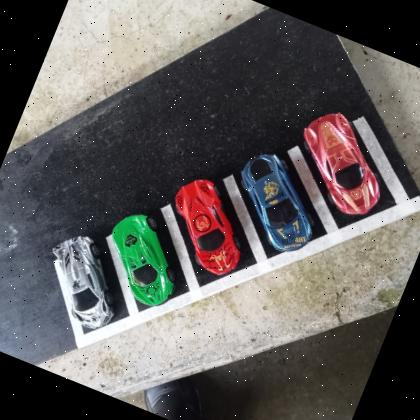Car: (280, 103, 403, 224), (220, 146, 334, 260), (153, 172, 263, 282), (31, 226, 138, 336), (91, 206, 195, 312)
